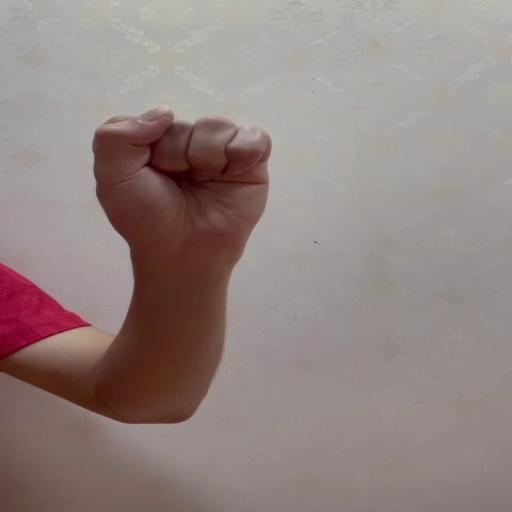fist: (92, 103, 274, 250)
